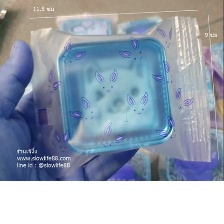snack: (19, 8, 216, 181)
